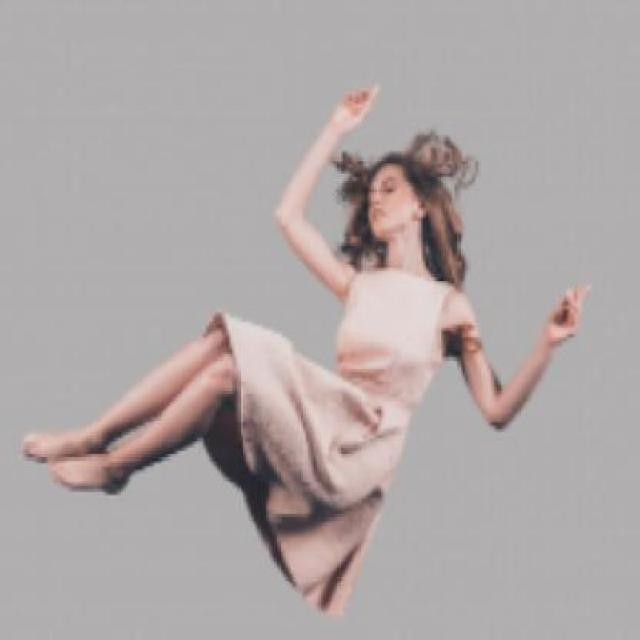fall: (21, 68, 578, 557)
